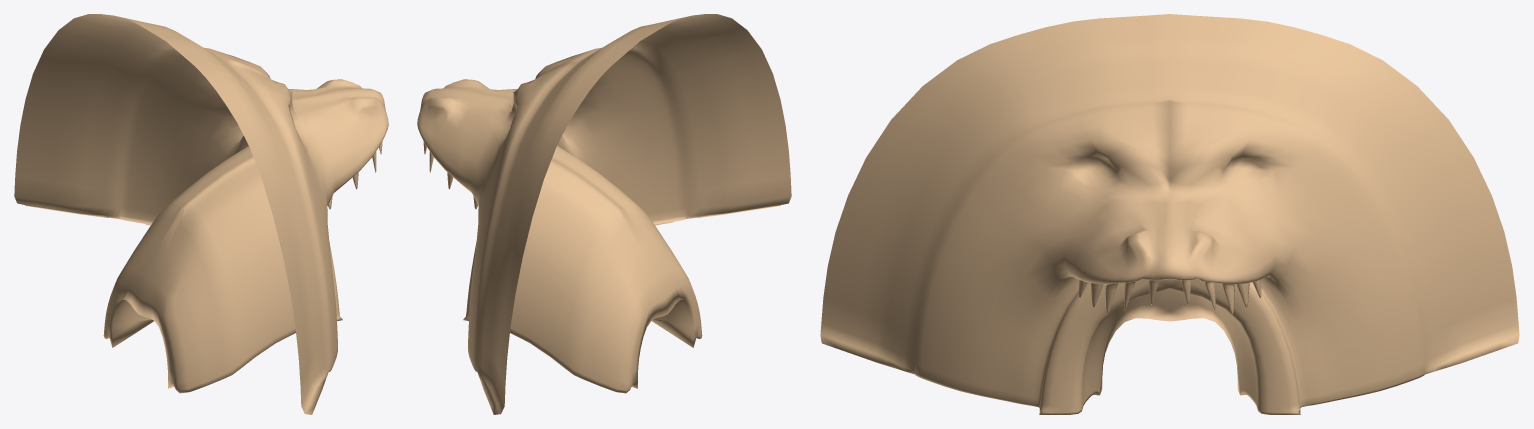
Rendered from cave_v2.fbx.
3 renders of one model, left to right at view 1: azimuth 30°, elevation 25°; view 2: azimuth 150°, elevation 25°; view 3: azimuth 270°, elevation 25°, orthographic. The views are drawn at different scales.
Parts seen in each view (by area): view 1: Cave-low; view 2: Cave-low; view 3: Cave-low.
Part boxes in pixels (x1,y1,x2,y2): Cave-low: (14, 14, 388, 414); Cave-low: (417, 14, 791, 414); Cave-low: (820, 14, 1519, 414).
Size of the model in its own units: 946 by 1191 by 1935.
